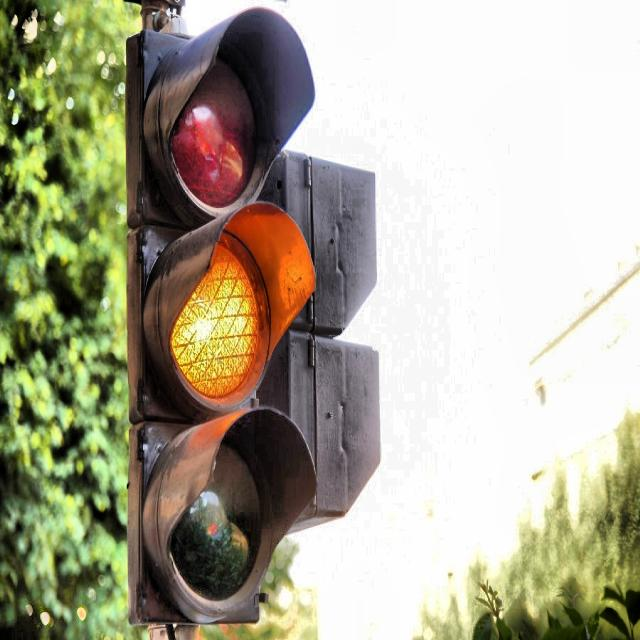yellow: (132, 6, 314, 614)
